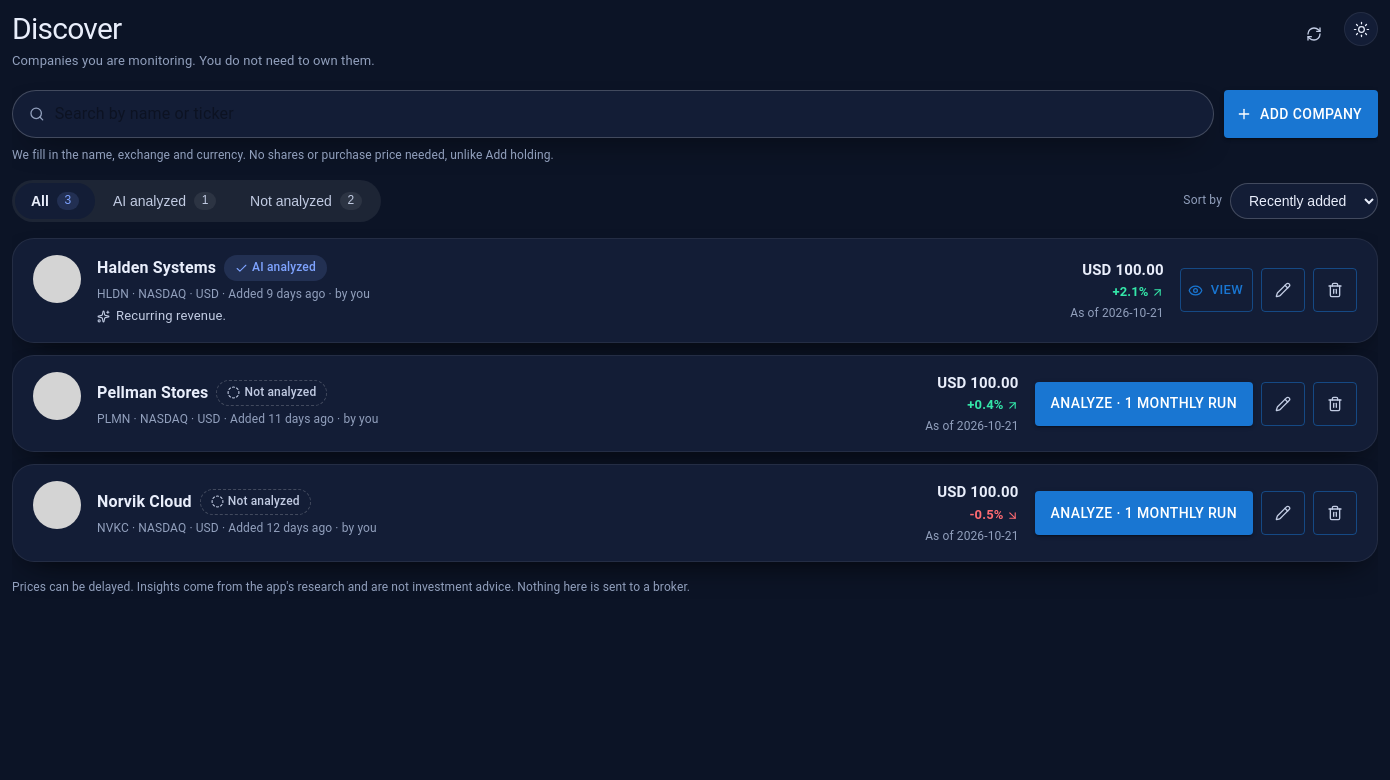
DiscoverPage › removing › brings the company back and says why when the removal fails
Expected: the link "Halden Systems" is shown, [97, 256, 216, 280]
Click the button named "Remove Halden Systems from Discover".
click(1335, 290)  # box [1313, 268, 1357, 312]
Wait 8100 ms
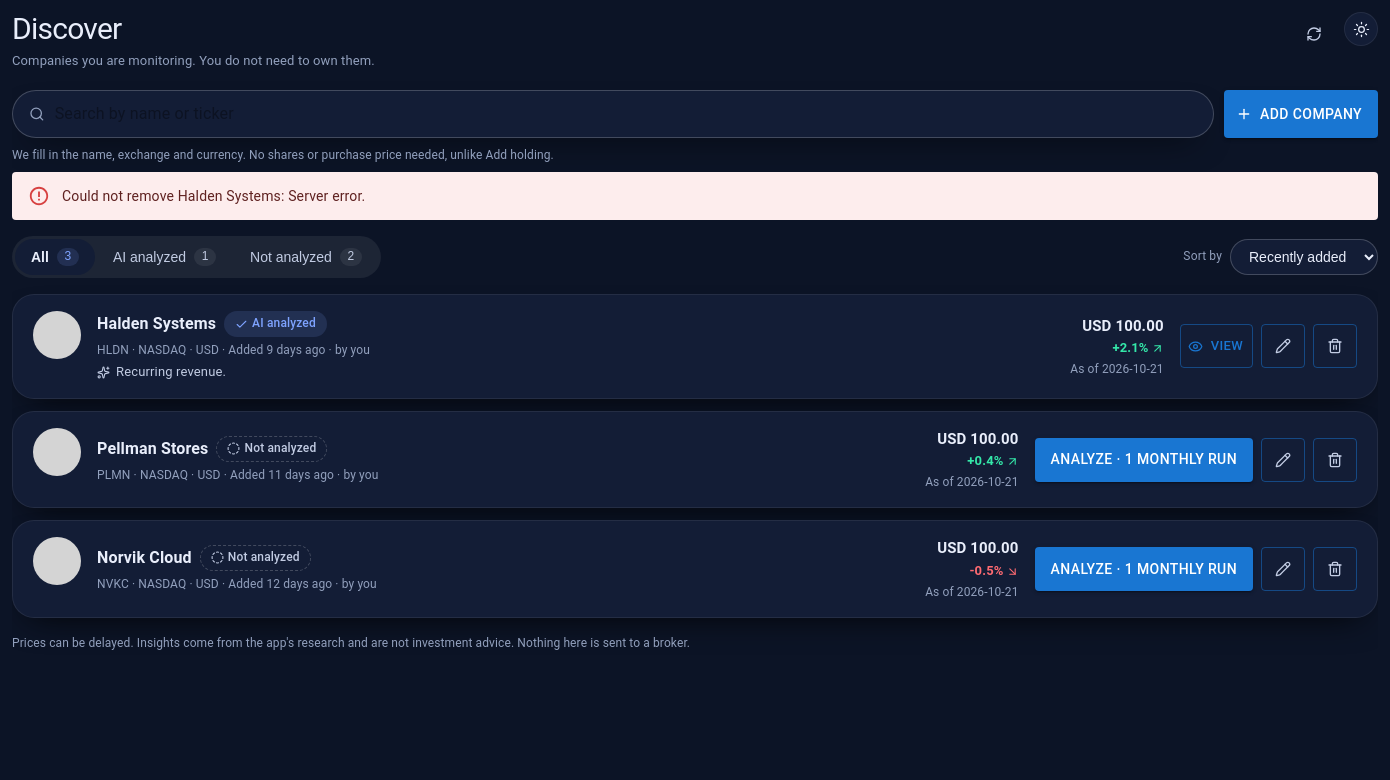
Expected: the link "Halden Systems" is shown, [97, 312, 216, 336]
Expected: the message reads "Could not remove Halden Systems: Server error.", [62, 188, 365, 204]
